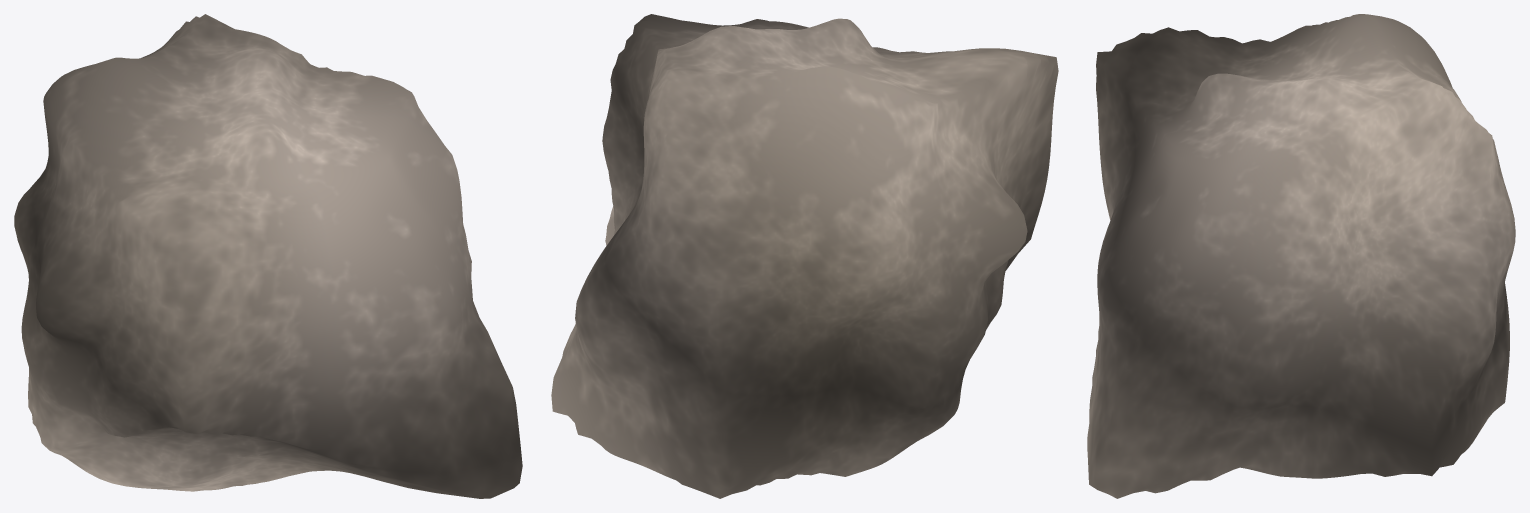
Rendered from asteroid-ore.glb.
3 views of the same model, side by side, from view 1: azimuth 30°, elevation 25°; view 2: azimuth 150°, elevation 25°; view 3: azimuth 270°, elevation 25° (orthographic). The views are drawn at different scales.
Visible parts, largest first — view 1: asteroid_5009; view 2: asteroid_5009; view 3: asteroid_5009.
Boxes of the visible parts, x1,y1,x2,y2 form: asteroid_5009: (14,14,522,498); asteroid_5009: (551,14,1058,498); asteroid_5009: (1087,14,1515,498).
Bounding box in the file's own units: 36.4 × 35.28 × 35.29.
Materials: 1 (1 with a texture image).
